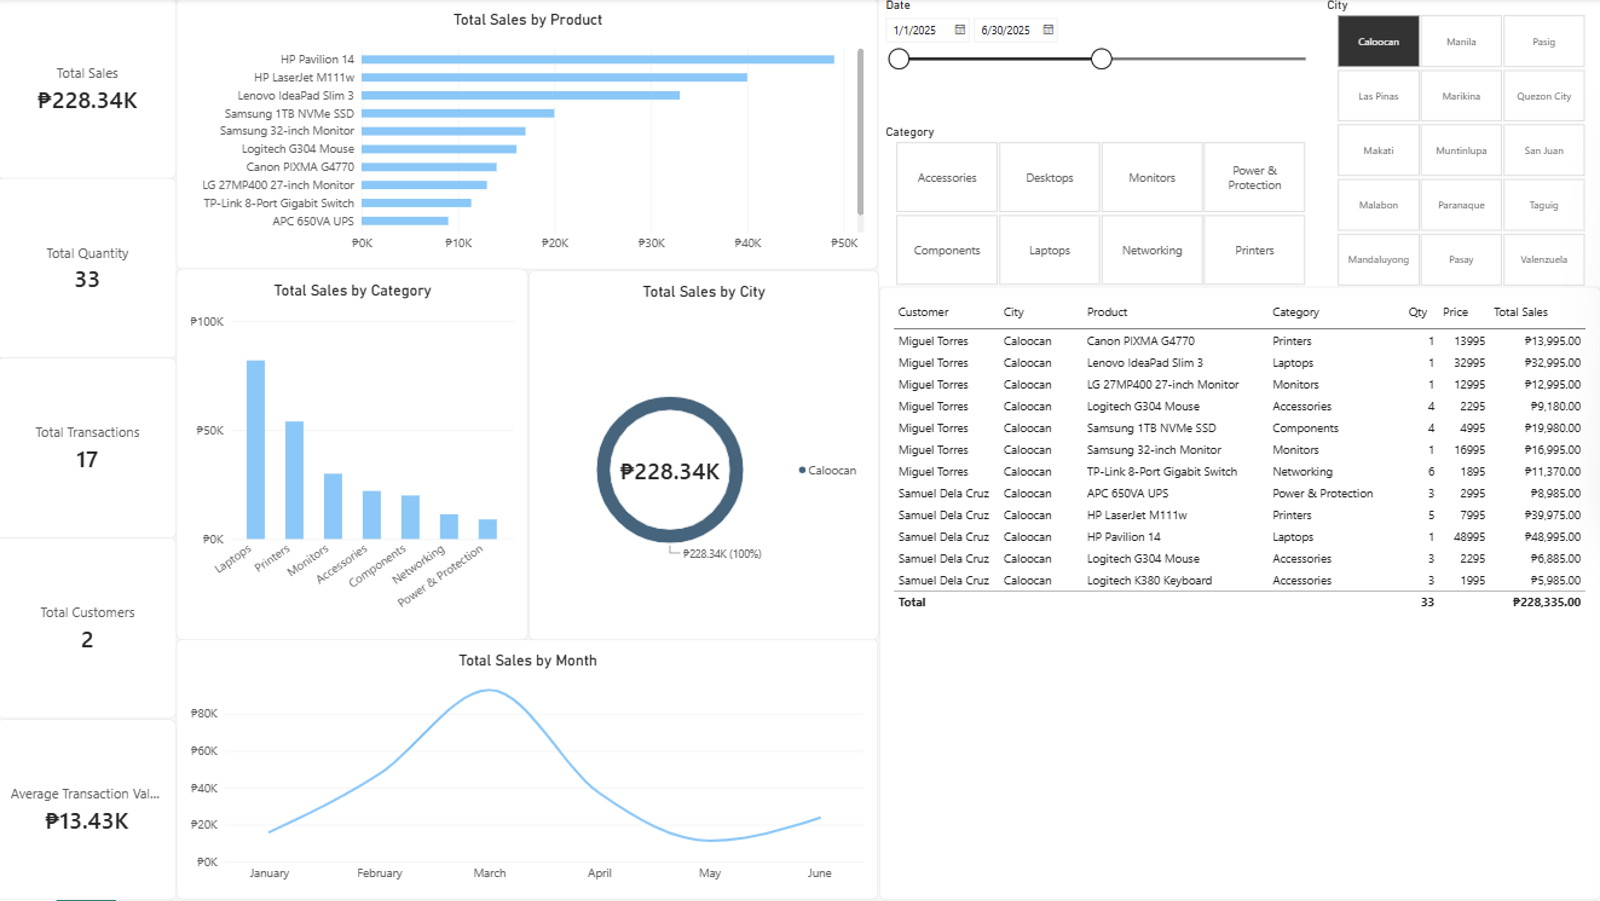

This screenshot's page, from the dashboard's own definition file:
{"tool":"powerbi","page":{"name":"Report","canvas":[1920,1080],"ordinal":0},"visuals":[{"type":"cardVisual","fields":{"Data":["Sales.Total Sales"]},"box":[0,0,216,216],"z":0},{"type":"cardVisual","fields":{"Data":["Sales.Total Quantity"]},"box":[0,215.6,216,216],"z":1},{"type":"cardVisual","fields":{"Data":["Sales.Total Transactions"]},"box":[0,431.3,216,216],"z":2},{"type":"cardVisual","fields":{"Data":["Sales.Total Customers"]},"box":[0,646.9,216,216],"z":3},{"type":"cardVisual","fields":{"Data":["Sales.Average Transaction Value"]},"box":[0,862.5,215.6,217.1],"z":4},{"type":"slicer","fields":{"Values":["Customers.City"]},"box":[1584.7,0,335.3,345.6],"z":5},{"type":"slicer","fields":{"Values":["Sales.Date"]},"box":[1056,0,528.7,152.1],"z":6},{"type":"slicer","fields":{"Values":["Products.Category"]},"box":[1056,152.1,528.7,193.5],"z":7},{"type":"tableEx","fields":{"Values":["Customers.Customer","Customers.City","Products.Product","Products.Category","Sum(Sales.Quantity)","Products.Price","Sales.Total Sales"]},"box":[1056,345.6,864,734],"z":8},{"type":"clusteredBarChart","title":"Total Sales by Product","fields":{"Category":["Products.Product"],"Y":["Sales.Total Sales"]},"box":[215.6,0,840.4,324.9],"z":9},{"type":"lineChart","title":"Total Sales by Month","fields":{"Category":["Sales.Date.Variation.Date Hierarchy.Quarter","Sales.Date.Variation.Date Hierarchy.Month","Sales.Date.Variation.Date Hierarchy.Day"],"Y":["Sales.Total Sales"]},"box":[215.6,768,840.4,311.6],"z":10},{"type":"clusteredColumnChart","title":"Total Sales by Category","fields":{"Category":["Products.Category"],"Y":["Sales.Total Sales"]},"box":[215.6,323.4,420.9,444.6],"z":11},{"type":"donutChart","title":"Total Sales by City","fields":{"Category":["Customers.City"],"Y":["Sales.Total Sales"]},"box":[637,325,419,443],"z":12}]}

Visuals, with their boxes in screenshot pixels (x1, y1, x2, y2), scaled from the page's 1920x1080 canvas onto the 1600x901 screenshot:
cardVisual - Sales.Total Sales: {"left": 0, "top": 0, "right": 180, "bottom": 180}
cardVisual - Sales.Total Quantity: {"left": 0, "top": 180, "right": 180, "bottom": 360}
cardVisual - Sales.Total Transactions: {"left": 0, "top": 360, "right": 180, "bottom": 540}
cardVisual - Sales.Total Customers: {"left": 0, "top": 540, "right": 180, "bottom": 720}
cardVisual - Sales.Average Transaction Value: {"left": 0, "top": 720, "right": 180, "bottom": 900}
slicer - Customers.City: {"left": 1321, "top": 0, "right": 1599, "bottom": 288}
slicer - Sales.Date: {"left": 880, "top": 0, "right": 1321, "bottom": 127}
slicer - Products.Category: {"left": 880, "top": 127, "right": 1321, "bottom": 288}
tableEx - Customers.Customer x Customers.City: {"left": 880, "top": 288, "right": 1599, "bottom": 900}
"Total Sales by Product" clusteredBarChart: {"left": 180, "top": 0, "right": 880, "bottom": 271}
"Total Sales by Month" lineChart: {"left": 180, "top": 641, "right": 880, "bottom": 900}
"Total Sales by Category" clusteredColumnChart: {"left": 180, "top": 270, "right": 530, "bottom": 641}
"Total Sales by City" donutChart: {"left": 531, "top": 271, "right": 880, "bottom": 641}
